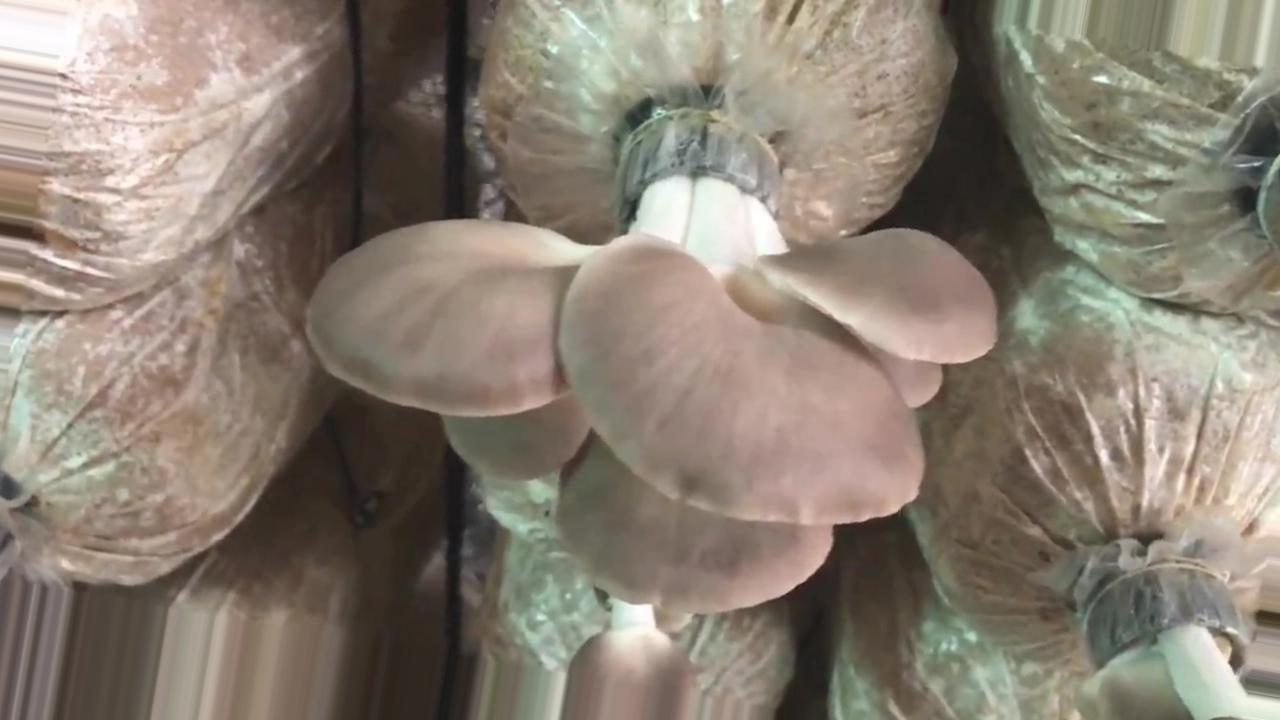nam: (310, 115, 998, 613), (1076, 567, 1280, 720), (564, 591, 696, 720)
